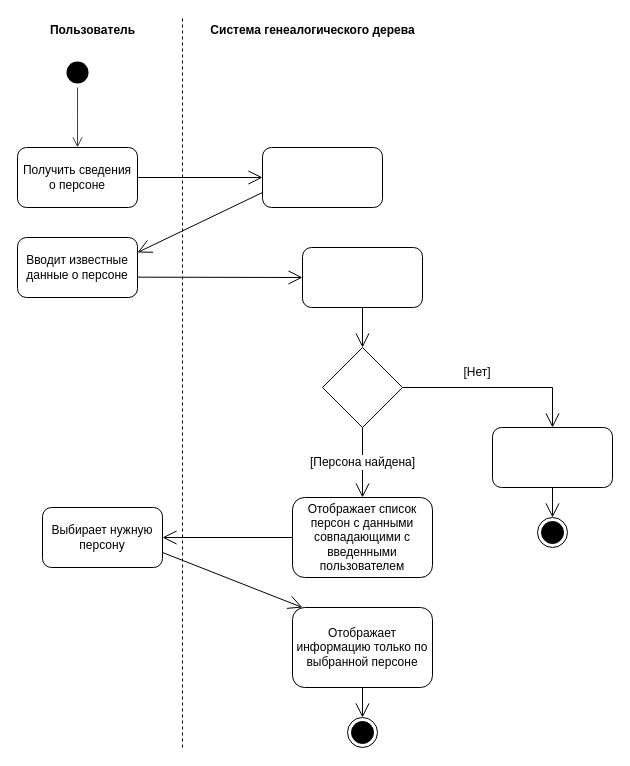
The diagram is 630 pixels wide and 766 high, and some of its shapes have lost their labels. Each missing label, with the centre of its shape:
Выполняет поиск персоны: the point at 362,277
Отображает пустую форму для ввода данных: the point at 322,177
Сообщение об отсутствии персон с такими данными: the point at 552,457
